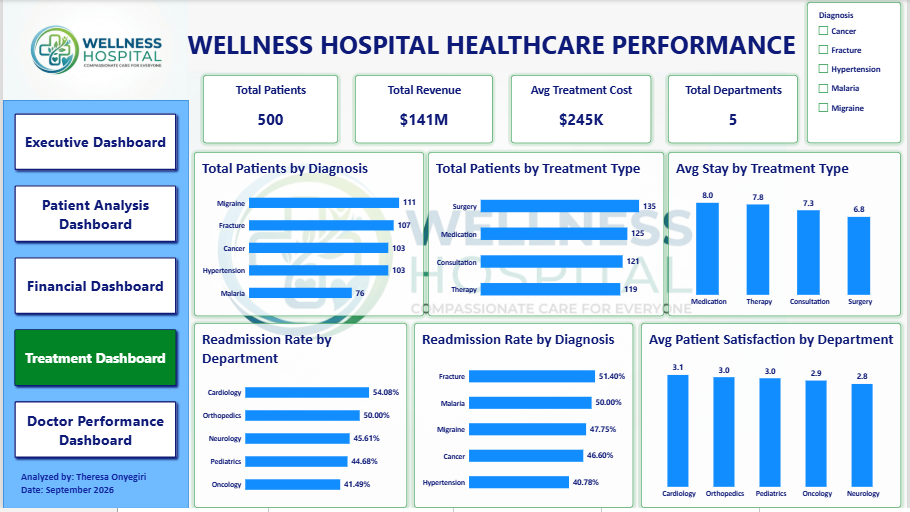

The page's visual inventory and layout, read from the dashboard file:
{"tool":"powerbi","page":{"name":"Treatment Dashboard","canvas":[1920,1080],"ordinal":3},"visuals":[{"type":"shape","box":[0,212.6,395.3,868.3],"z":0},{"type":"image","box":[0,0,395.3,211.7],"z":1000},{"type":"textbox","box":[331.7,19.1,1413.7,120.1],"z":2000},{"type":"pageNavigator","box":[14.9,231.7,363.5,754.7],"z":3000},{"type":"barChart","fields":{"Category":["Table1.Diagnosis"],"Y":["Table1.Total Patients"]},"box":[406.1,323.1,489,348.7],"z":4000},{"type":"barChart","title":"Total Patients by Treatment Type","fields":{"Category":["Table1.Treatment_Type"],"Y":["Table1.Total Patients"]},"box":[903.5,323.1,501.7,348.7],"z":5000},{"type":"barChart","fields":{"Category":["Table1.Department"],"Y":["Table1.Readmission Rate"]},"box":[406.1,686.7,452.8,393.3],"z":6000},{"type":"columnChart","fields":{"Y":["Table1.Avg Patient Satisfaction"],"Category":["Table1.Department"]},"box":[1356.4,686.7,552.8,393.3],"z":7000},{"type":"card","title":"Total Patients","fields":{"Values":["Table1.Total Patients"]},"box":[425.2,159.4,287,144.6],"z":8000},{"type":"card","title":"Total Revenue","fields":{"Values":["Table1.Total Revenue"]},"box":[748.3,159.4,293.4,144.6],"z":9000},{"type":"card","title":"Avg Treatment Cost","fields":{"Values":["Table1.Avg Treatment Cost"]},"box":[1080,159.4,297.6,144.6],"z":10000},{"type":"card","title":"Total Departments","fields":{"Values":["Table1.Total Departments"]},"box":[1413.8,159.4,276.4,144.6],"z":11000},{"type":"slicer","fields":{"Values":["Table1.Diagnosis"]},"box":[1709.3,4.3,199.8,299.8],"z":12000},{"type":"barChart","fields":{"Category":["Table1.Diagnosis"],"Y":["Table1.Readmission Rate"]},"box":[873.8,686.7,465.6,393.3],"z":13000},{"type":"columnChart","title":"Avg Stay by Treatment Type","fields":{"Category":["Table1.Treatment_Type"],"Y":["Table1.Avg Length of Stay"]},"box":[1413.8,323.1,495.4,348.7],"z":14000},{"type":"textbox","box":[38.3,1001.3,312.5,78.7],"z":14001}]}

Visuals, with their boxes in screenshot pixels (x1, y1, x2, y2), scaled from the page's 1920x1080 canvas onto the 910x512 screenshot:
shape: rect(0, 101, 187, 511)
image: rect(0, 0, 187, 100)
textbox: rect(157, 9, 827, 66)
pageNavigator: rect(7, 110, 179, 468)
barChart - Table1.Diagnosis x Table1.Total Patients: rect(192, 153, 424, 318)
"Total Patients by Treatment Type" barChart: rect(428, 153, 666, 318)
barChart - Table1.Department x Table1.Readmission Rate: rect(192, 326, 407, 511)
columnChart - Table1.Avg Patient Satisfaction x Table1.Department: rect(643, 326, 905, 511)
"Total Patients" card: rect(202, 76, 338, 144)
"Total Revenue" card: rect(355, 76, 494, 144)
"Avg Treatment Cost" card: rect(512, 76, 653, 144)
"Total Departments" card: rect(670, 76, 801, 144)
slicer - Table1.Diagnosis: rect(810, 2, 905, 144)
barChart - Table1.Diagnosis x Table1.Readmission Rate: rect(414, 326, 635, 511)
"Avg Stay by Treatment Type" columnChart: rect(670, 153, 905, 318)
textbox: rect(18, 475, 166, 511)
